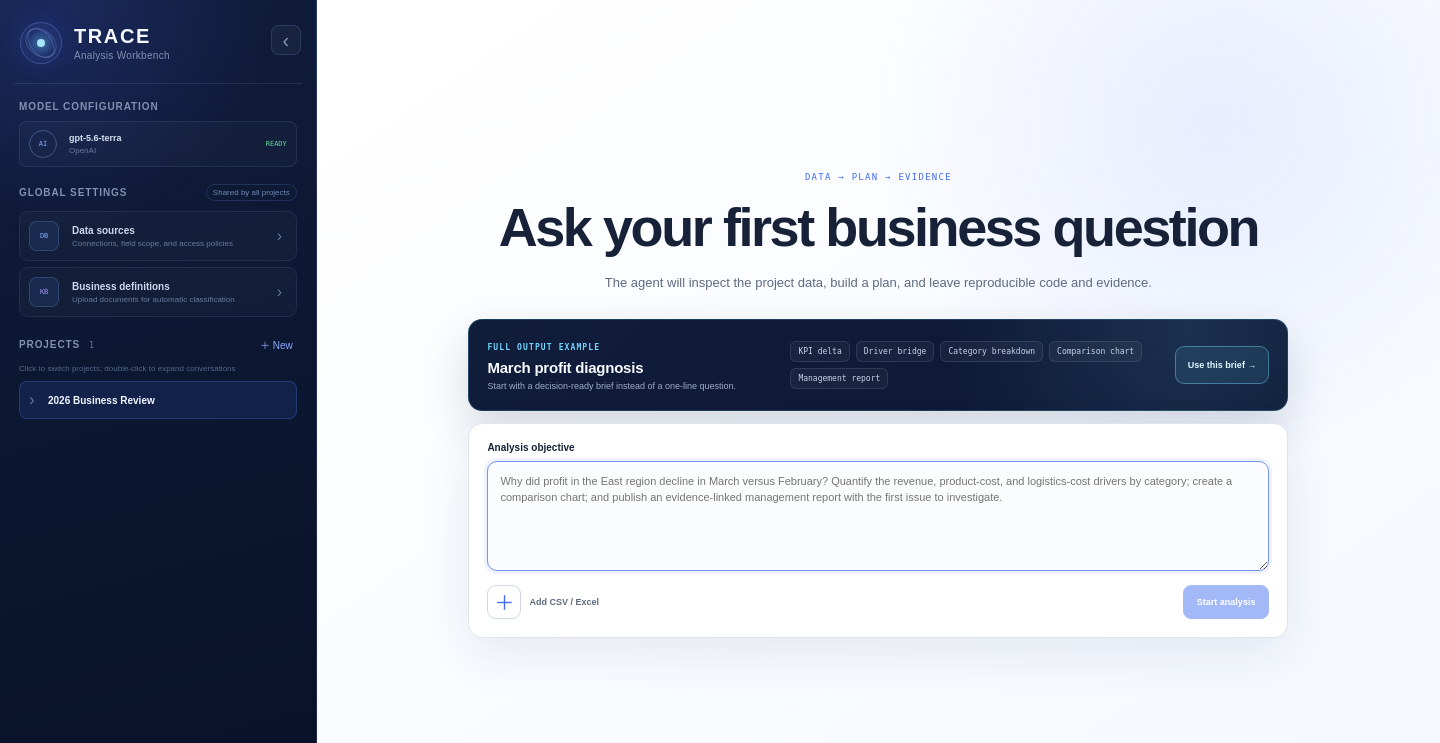
analysis workbench › shows a masked saved DSN and updates an existing connection
Click the button with aria-label "Configure global data sources" at [158, 236], box [19,211,297,261]
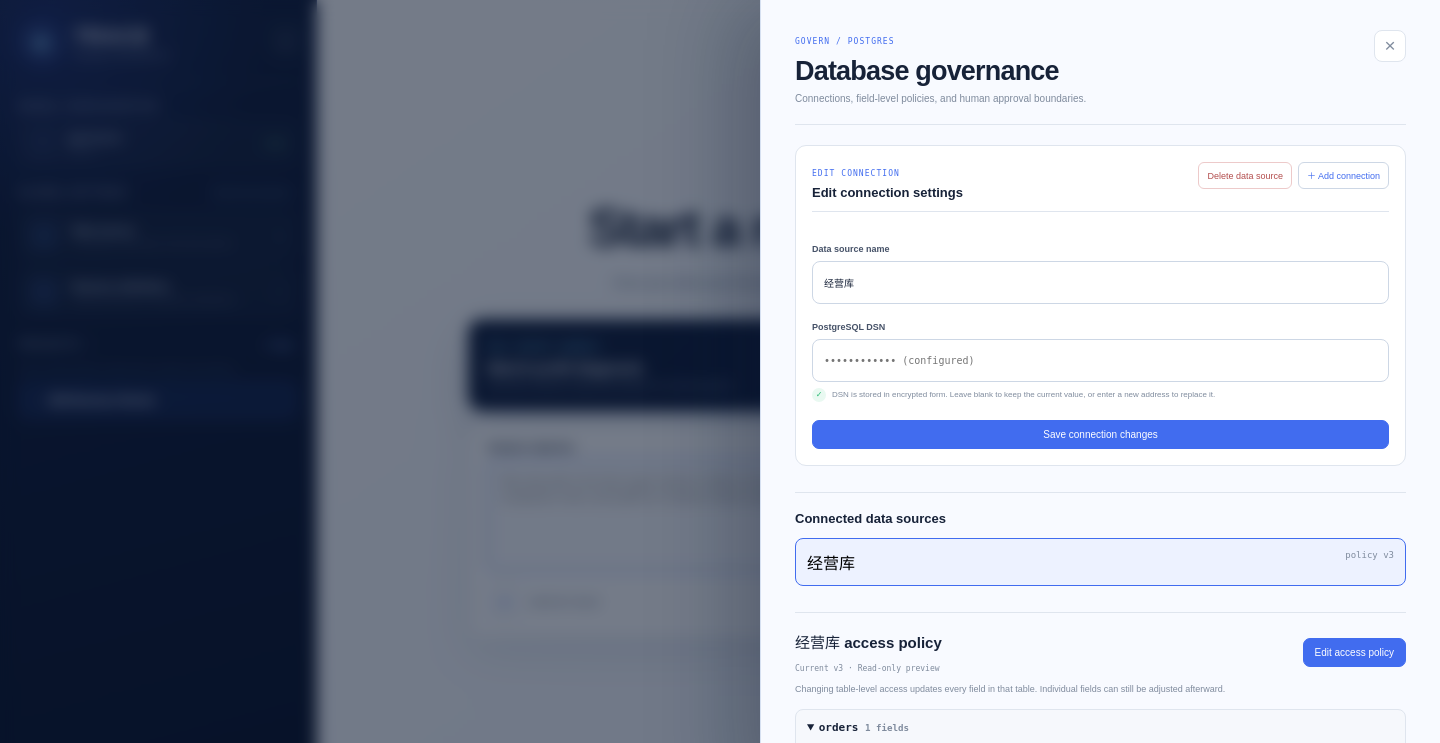
Now the field labelled "Data source name" holds "经营库"
Now the text "DSN is stored in encrypted form. Leave blank to keep the current value, or enter a new address to replace it." is shown, box [832,390,1215,399]
Replace the text in the field labelled "Data source name" with "经营分析库" at [1100, 282], box [812,261,1389,304]
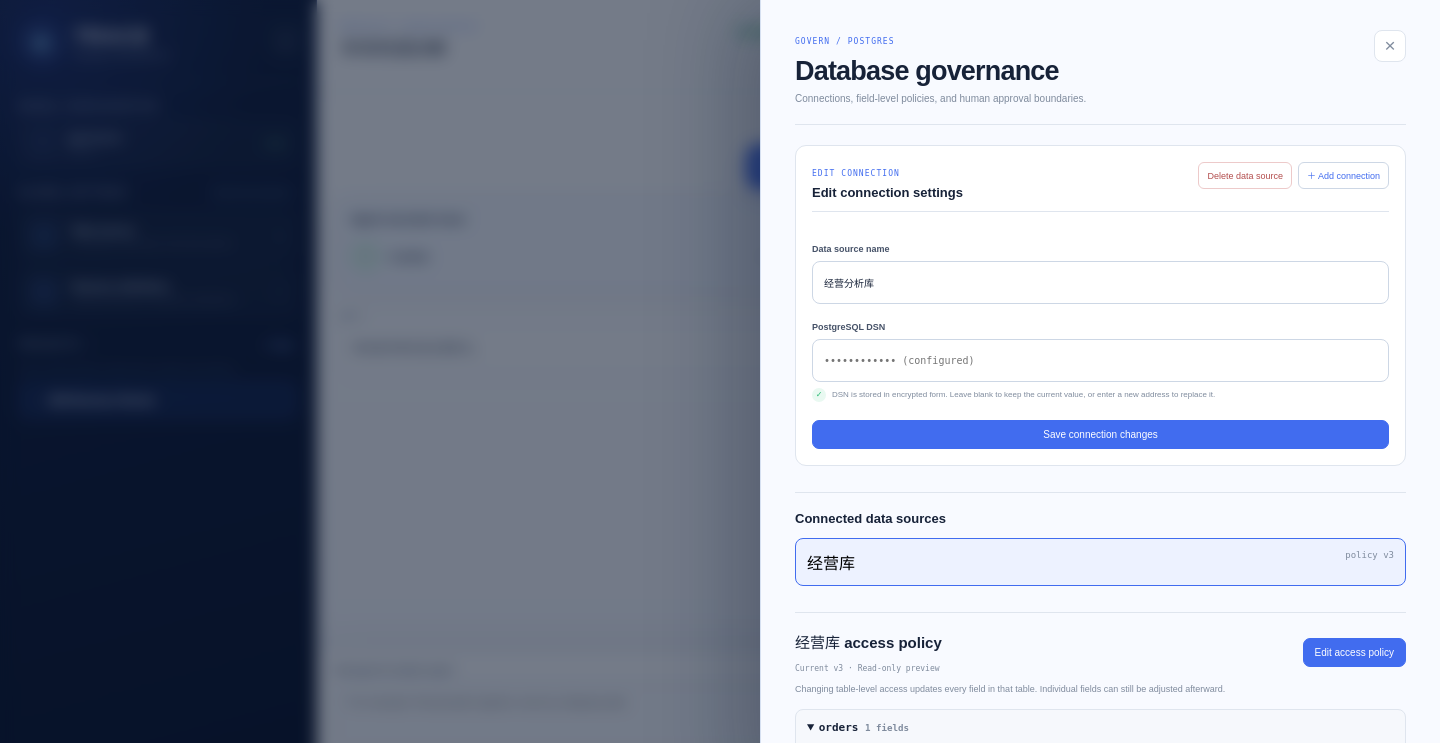
Click the button "Save connection changes" at [1100, 434], box [812,420,1389,449]
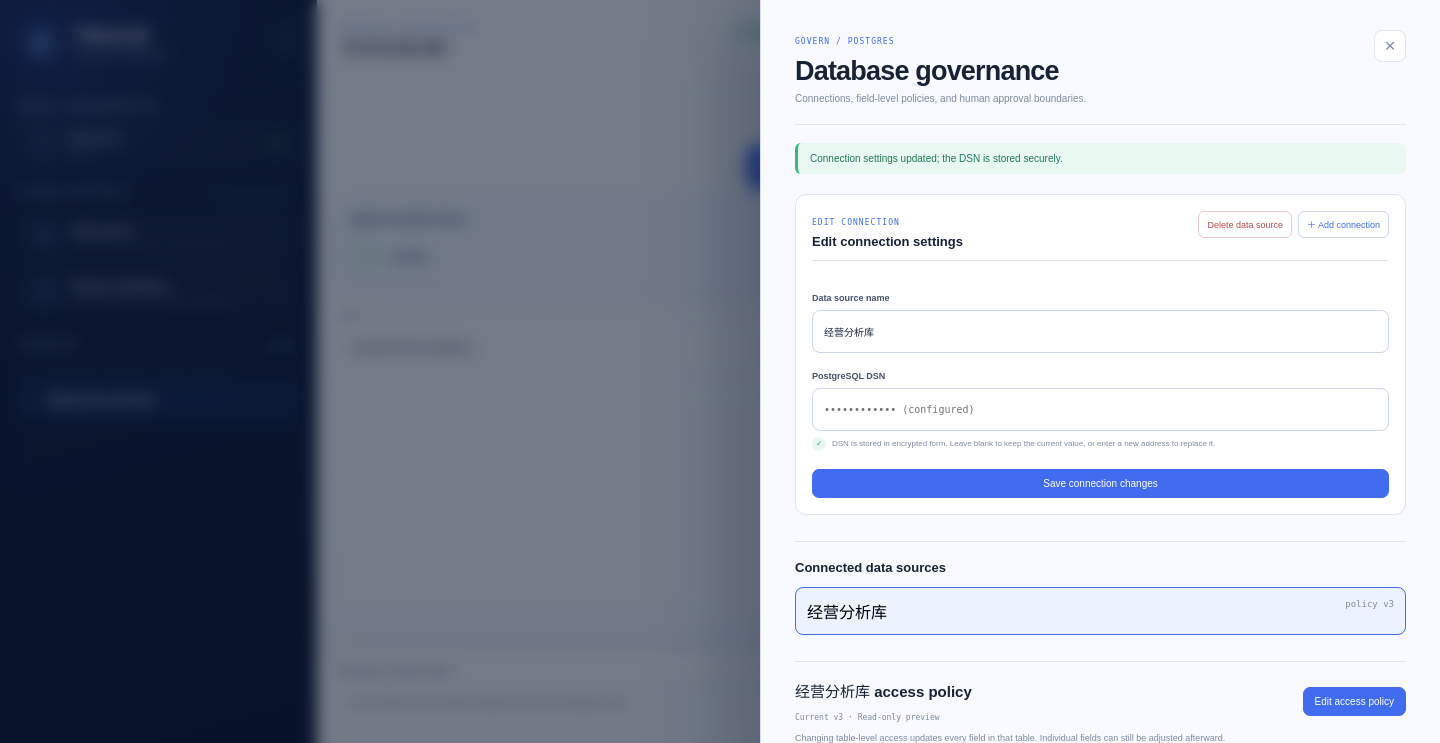
Now the text "Connection settings updated; the DSN is stored securely." is shown, box [795,143,1406,174]
